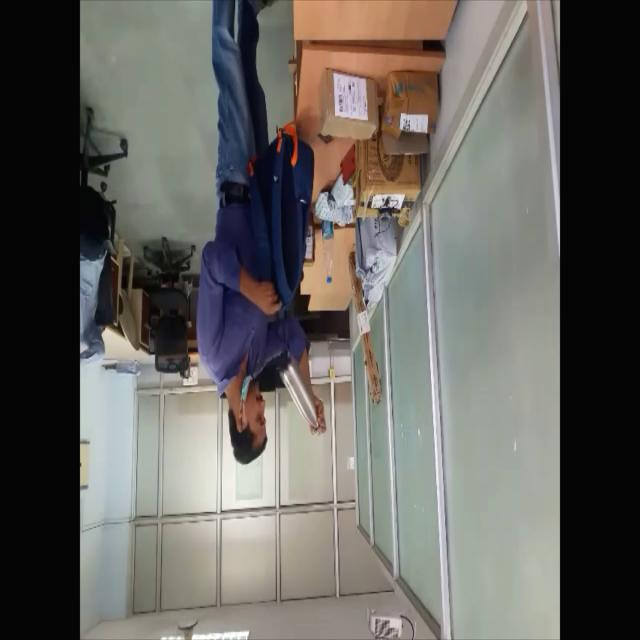shoplifting: (193, 0, 328, 478)
